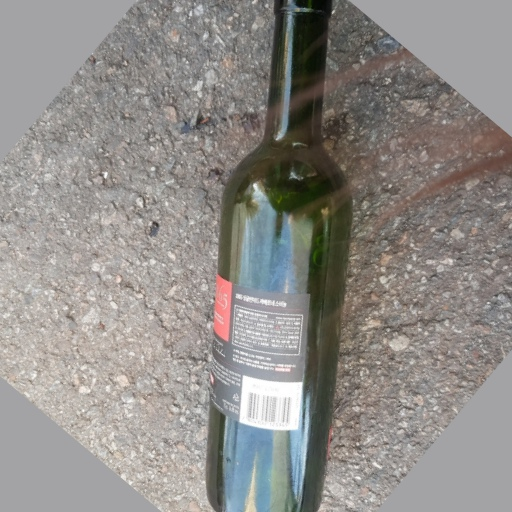Glass_2: (209, 2, 356, 512)
